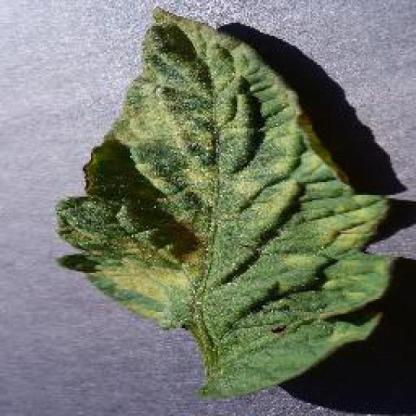Tomato_Leaf_Mold: (56, 9, 401, 322)
